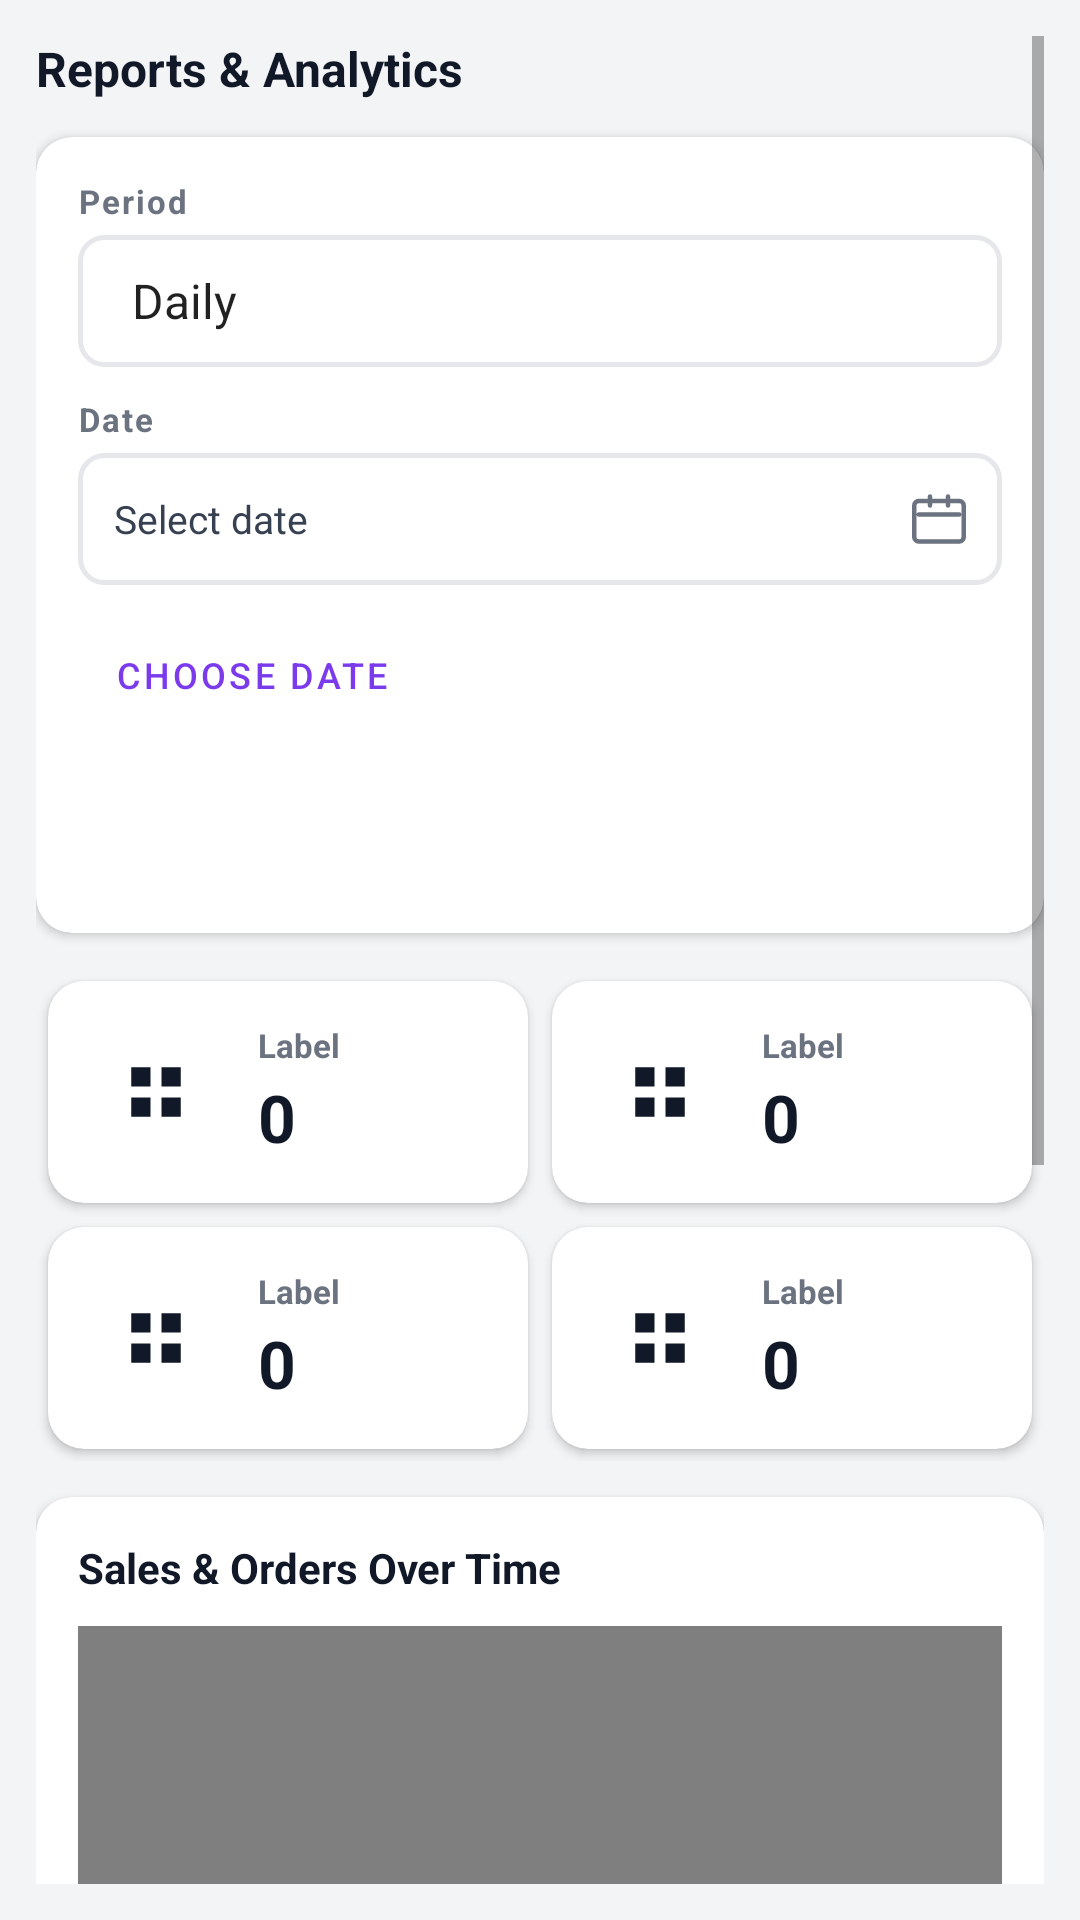

Screen size 1080 x 1920. Icon name, then its box in pixels as rect(x1, y1, x2, y2):
calendar: rect(912, 494, 966, 544)
grid: rect(131, 1067, 181, 1117), rect(635, 1067, 685, 1117), rect(131, 1313, 181, 1363), rect(635, 1313, 685, 1363)
